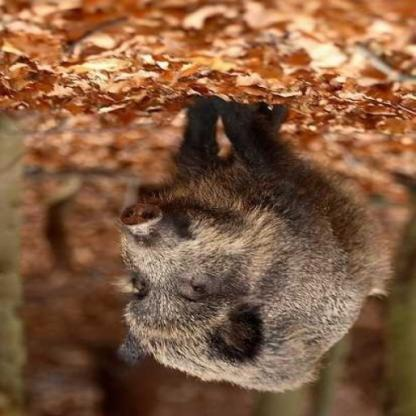boar: (112, 86, 392, 407)
